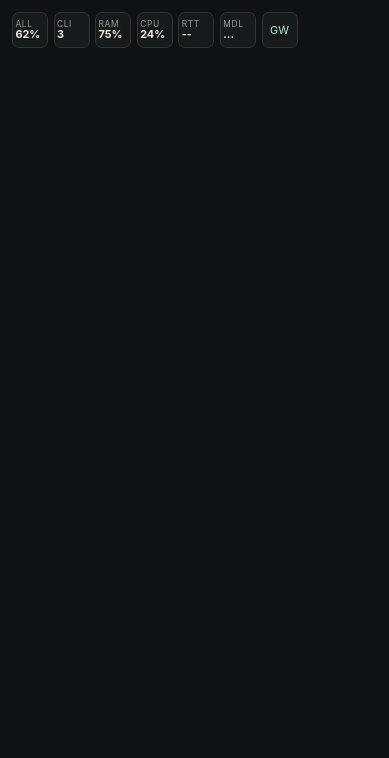
it: ToolbarMetrics › redeems with one click, locks duplicate clicks, and refreshes real provider samples
The image size is (389, 758).
Hover over the button "ALL 62%".
mouse_move(30, 30)  # box [12,12,48,48]
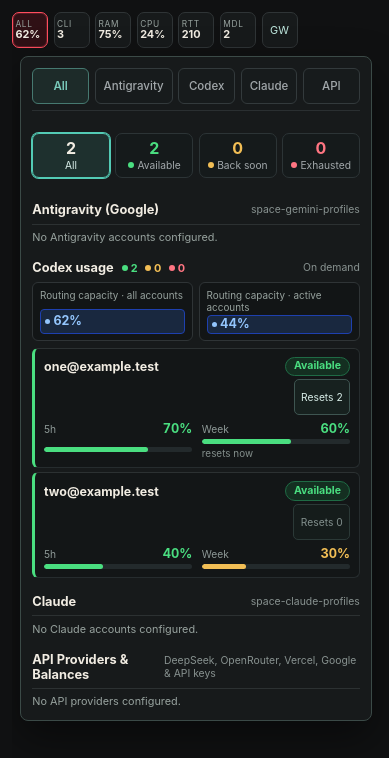
Click the button "Resets 2".
click(322, 397)  # box [294,379,350,415]
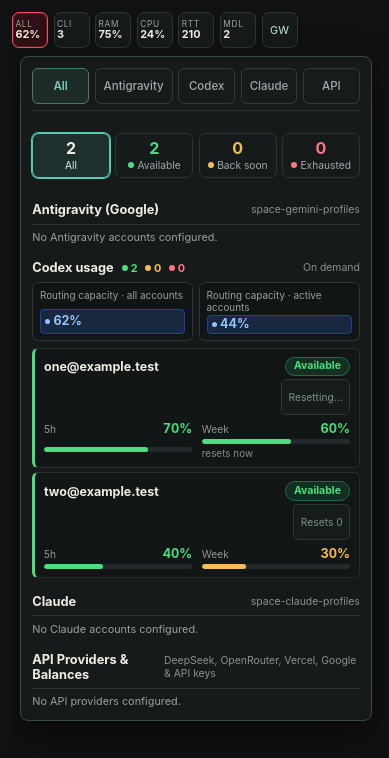
Click the button named "Resets 2".
click(316, 397)  # box [281,379,350,415]
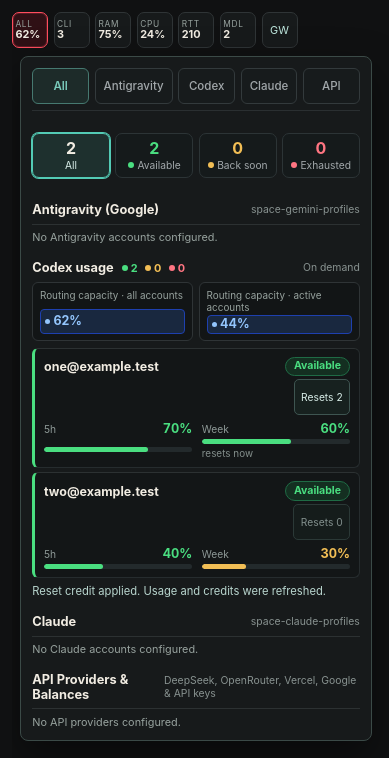
Check: the button named "Resetting…" is shown, box [294,379,350,415]
Check: the text "Reset credit applied. Usage and credits were refreshed." is shown, box [32,584,360,598]
